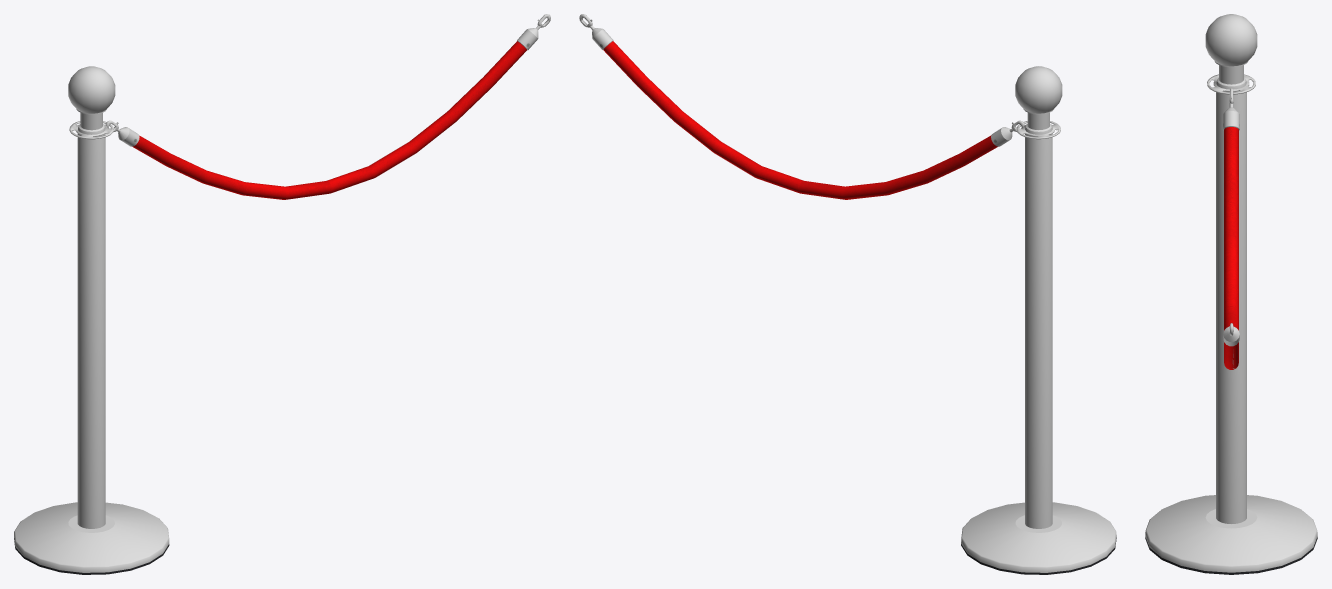
File: BarrierRope01_3.FBX
3 views of the same model, side by side, from view 1: azimuth 30°, elevation 25°; view 2: azimuth 150°, elevation 25°; view 3: azimuth 270°, elevation 25° (orthographic). The views are drawn at different scales.
Visible parts, largest first — view 1: BarrierRope01_3; view 2: BarrierRope01_3; view 3: BarrierRope01_3.
Part boxes in pixels (x1=…): BarrierRope01_3: x1=14, y1=14, x2=550, y2=574; BarrierRope01_3: x1=579, y1=14, x2=1116, y2=574; BarrierRope01_3: x1=1145, y1=14, x2=1317, y2=574.
Bounding box in the file's own units: 121 × 104 × 31.06.
